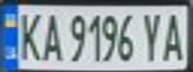1: (84, 10, 103, 62)
6: (115, 10, 139, 63)
9: (63, 10, 87, 63), (100, 10, 121, 62)
A: (157, 9, 187, 63), (36, 9, 63, 62)
K: (12, 8, 45, 62)
Y: (136, 9, 166, 62)
